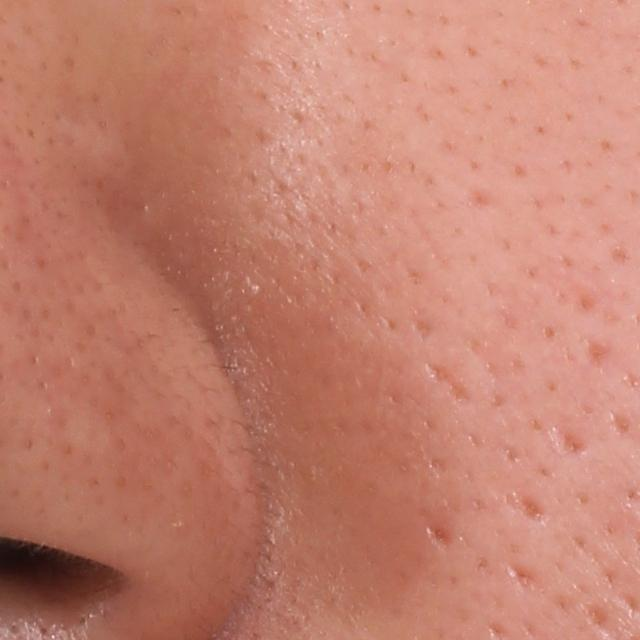atrophic_scar: (424, 360, 478, 409), (416, 508, 460, 556), (506, 486, 552, 528), (550, 426, 593, 459), (507, 557, 542, 592)
hypertrophic_scar: (43, 109, 148, 181)
